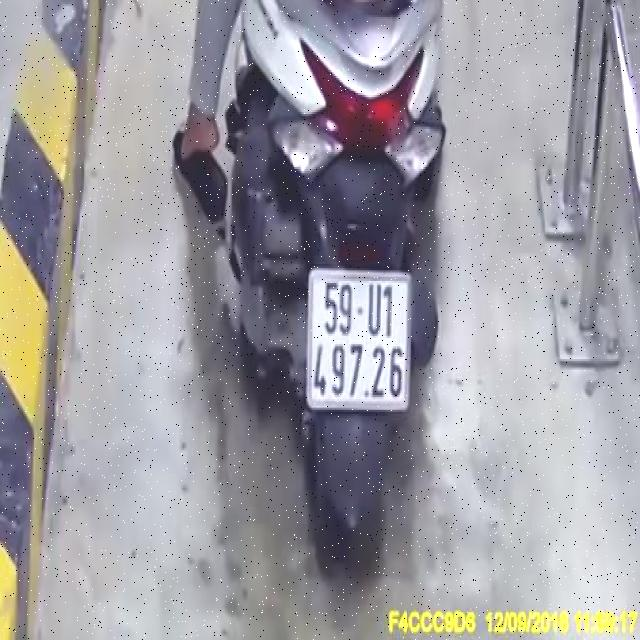1: (383, 286, 395, 339)
2: (370, 348, 388, 399)
4: (314, 342, 330, 401)
5: (324, 279, 338, 340)
6: (389, 344, 404, 403)
7: (348, 342, 363, 398)
9: (339, 282, 354, 342), (331, 341, 346, 399)
U: (367, 284, 382, 339)
